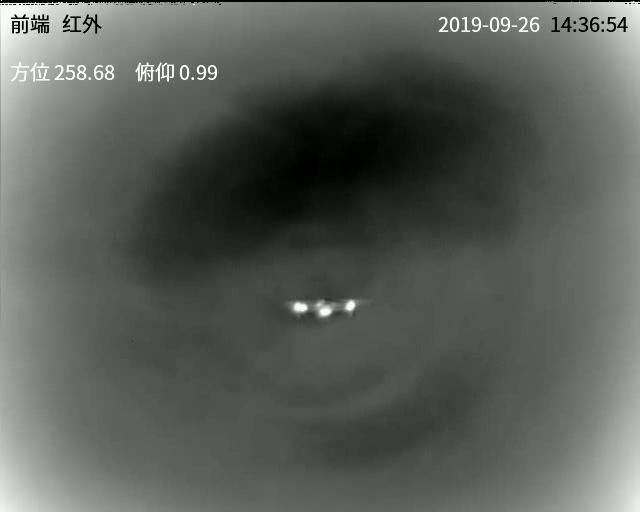DRONE: (290, 298, 357, 323)
